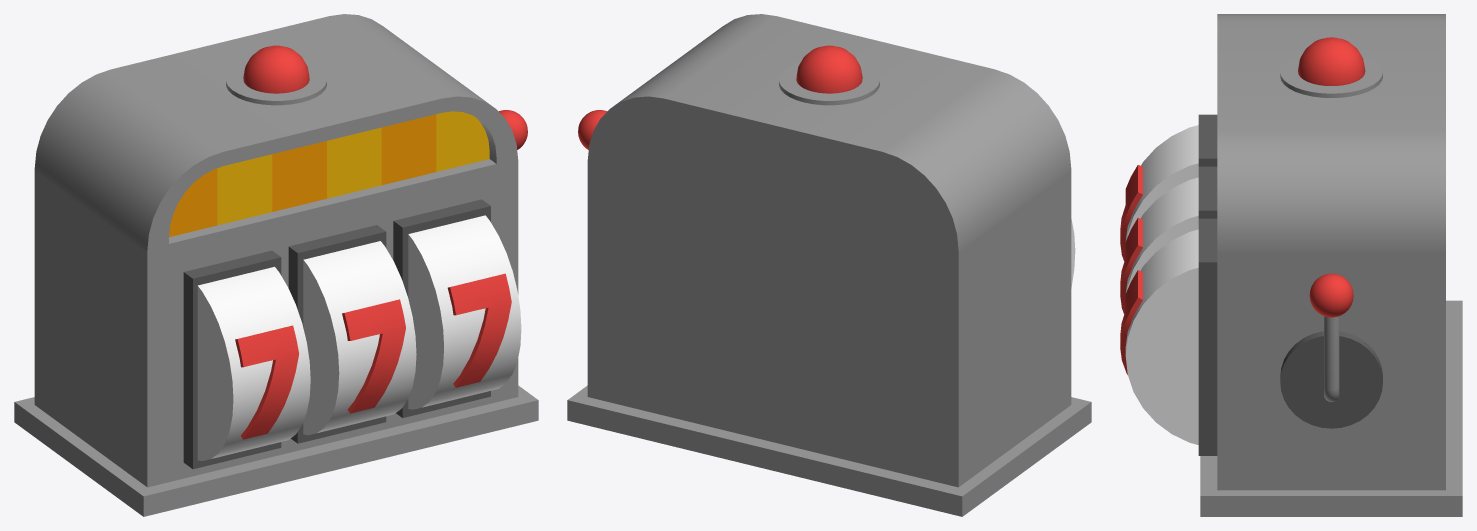
The model's file is slot_machine.glb.
3 renders of one model, left to right at view 1: azimuth 30°, elevation 25°; view 2: azimuth 150°, elevation 25°; view 3: azimuth 270°, elevation 25°, orthographic.
Visible parts, largest first — view 1: Cube.844; view 2: Cube.844; view 3: Cube.844.
Part boxes in pixels (x1,y1,x2,y2): Cube.844: [14, 14, 538, 516]; Cube.844: [567, 14, 1091, 516]; Cube.844: [1120, 14, 1462, 516].
Size of the model in its own units: 2.3 by 1.84 by 1.51.
1 material, 1 textured.
